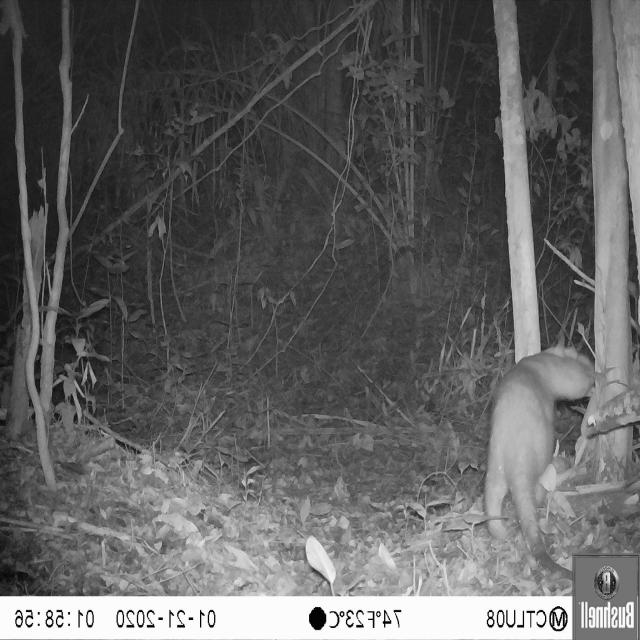Southern Tamandua: (480, 342, 606, 578)
